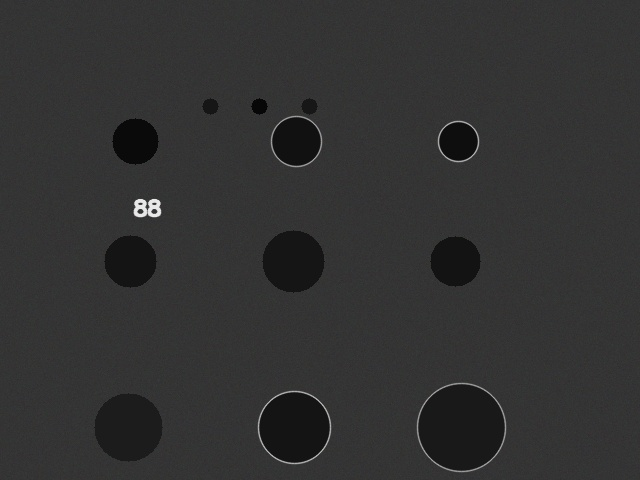hole: (417, 383, 505, 471), (258, 391, 330, 463), (94, 393, 162, 461), (262, 230, 324, 292), (104, 235, 156, 287), (271, 116, 321, 166), (430, 236, 480, 286), (112, 118, 158, 164), (438, 121, 478, 161), (202, 98, 218, 114), (251, 98, 267, 114), (301, 98, 317, 114)
